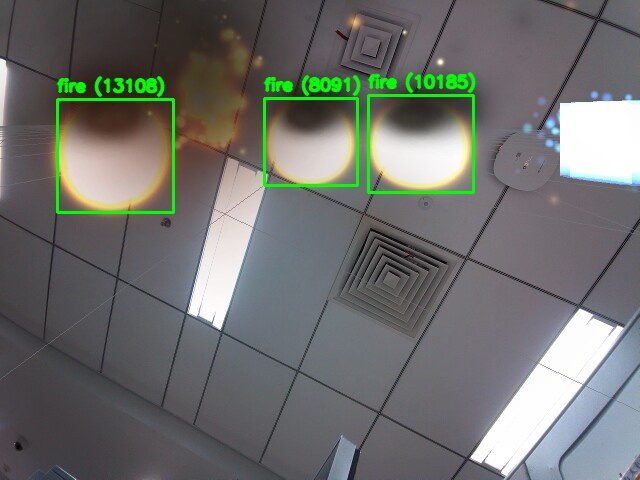fire: (57, 99, 173, 212), (368, 95, 473, 192), (264, 98, 357, 185)
